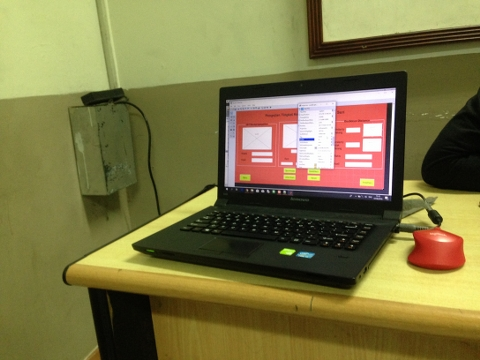pc: (131, 72, 408, 287)
